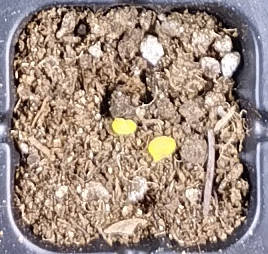pepper seed: (59, 54, 237, 217), (42, 49, 180, 185)
